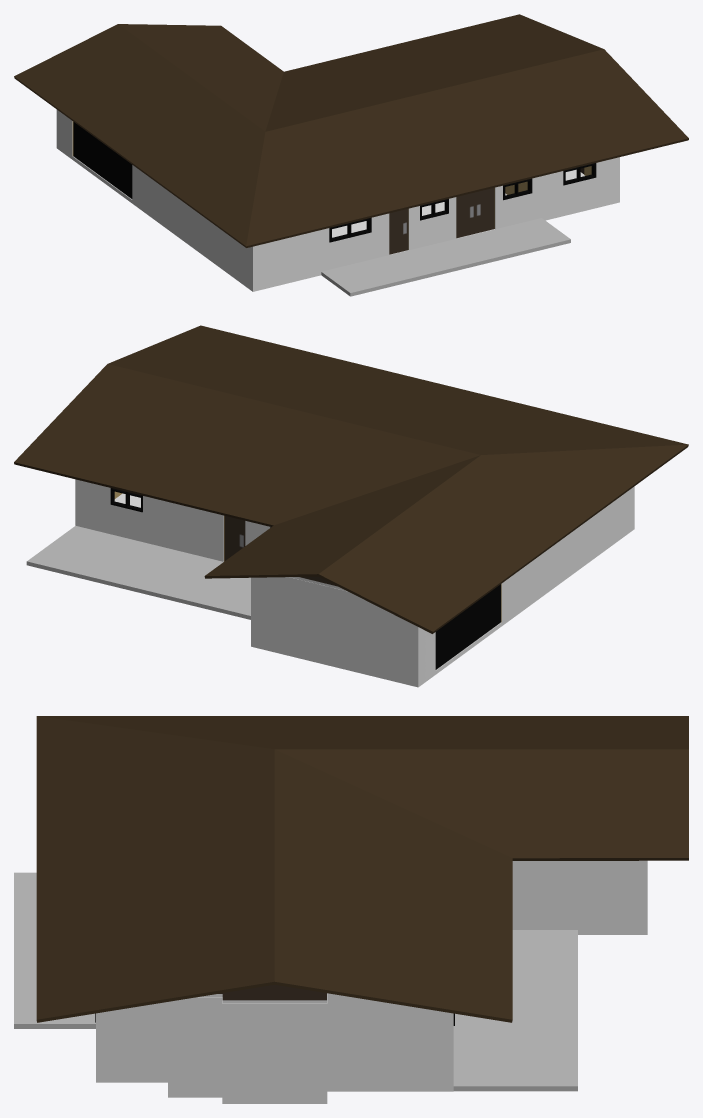
Rendered from House.fbx.
3 renders of one model, top to bottom at view 1: azimuth 30°, elevation 25°; view 2: azimuth 150°, elevation 25°; view 3: azimuth 270°, elevation 25°, orthographic. The views are drawn at different scales.
Visible parts, largest first — view 1: Roof, House, FrontDoor1, FrontDoor2, MasterDoor2; view 2: Roof, House, RearDoor; view 3: Roof, House.
Boxes of the visible parts, x1,y1,x2,y2 form: Roof: (14, 14, 688, 247); House: (56, 109, 619, 296); FrontDoor1: (456, 192, 475, 238); FrontDoor2: (475, 187, 494, 233); MasterDoor2: (389, 209, 408, 254); Roof: (14, 325, 688, 633); House: (26, 479, 634, 687); RearDoor: (224, 515, 245, 561); Roof: (36, 716, 688, 1022); House: (14, 860, 647, 1103).
Bounding box in the file's own units: 20.81 × 4.27 × 19.55.
